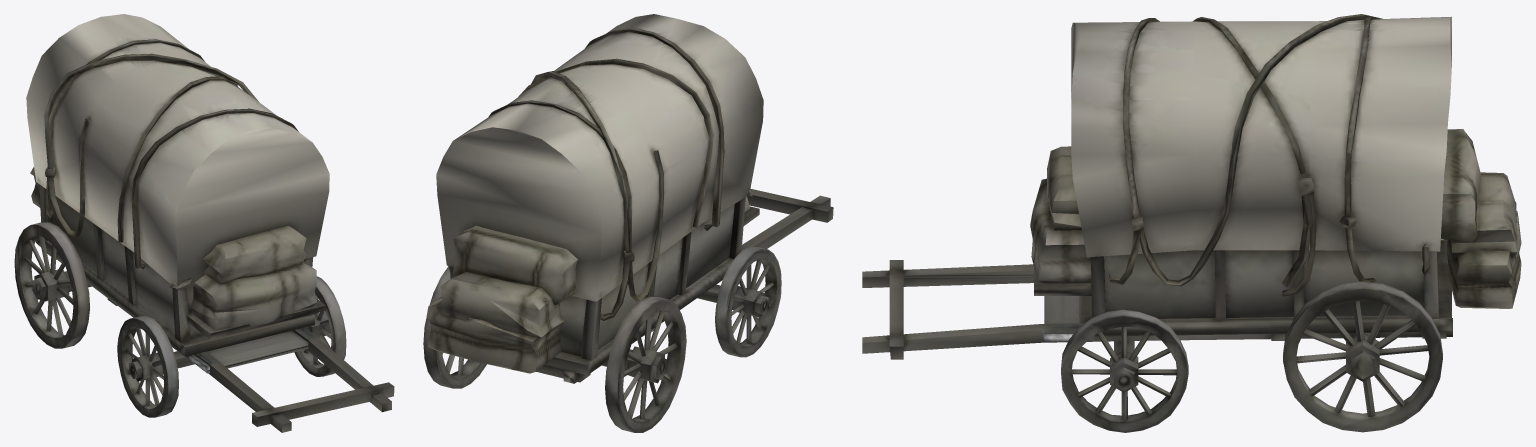
Rendered from wagon.glb.
3 renders of one model, left to right at view 1: azimuth 30°, elevation 25°; view 2: azimuth 150°, elevation 25°; view 3: azimuth 270°, elevation 25°, orthographic. The views are drawn at different scales.
Parts seen in each view (by area): view 1: model; view 2: model; view 3: model.
Part boxes in pixels (x1,y1,x2,y2): model: (14, 14, 394, 432); model: (423, 14, 833, 432); model: (862, 14, 1521, 432).
Size of the model in its own units: 0.7342 by 1 by 1.7.
Materials: 1 (1 with a texture image).
